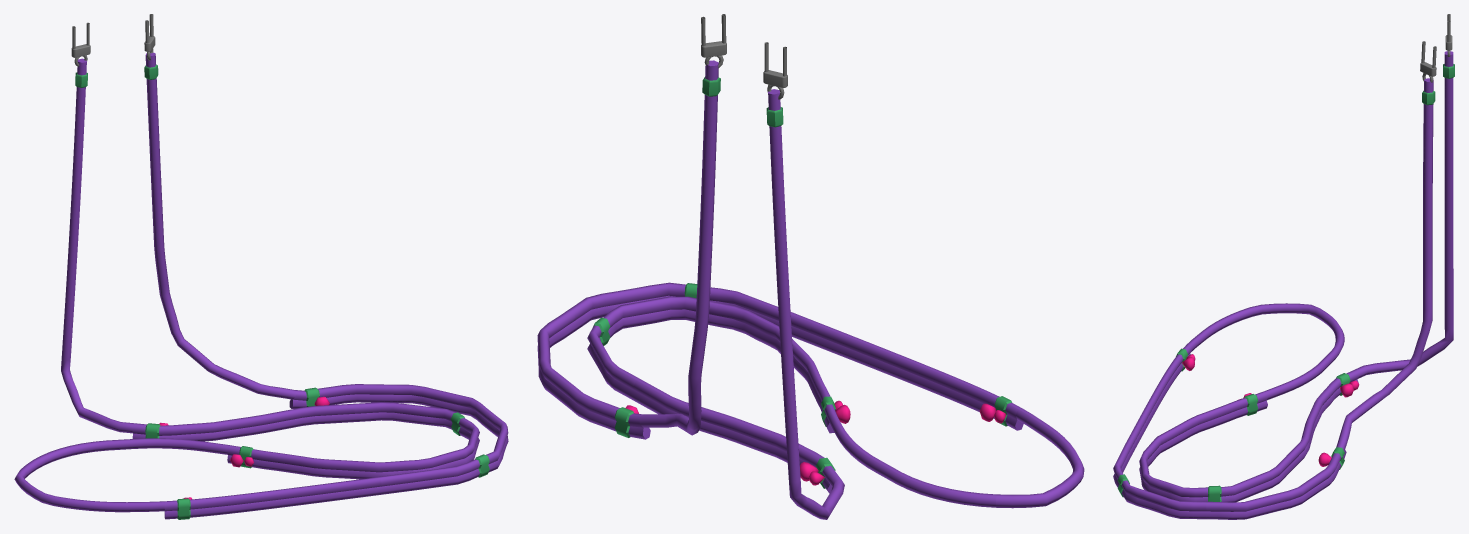
File: strap6.fbx
3 views of the same model, side by side, from view 1: azimuth 30°, elevation 25°; view 2: azimuth 150°, elevation 25°; view 3: azimuth 270°, elevation 25° (orthographic). The views are drawn at different scales.
Visible parts, largest first — view 1: Strap02.001; view 2: Strap02.001; view 3: Strap02.001.
Boxes of the visible parts, x1=… form: Strap02.001: x1=14, y1=14, x2=508, y2=519; Strap02.001: x1=537, y1=14, x2=1084, y2=519; Strap02.001: x1=1113, y1=14, x2=1454, y2=519.
Bounding box in the file's own units: 455 × 388 × 326.
